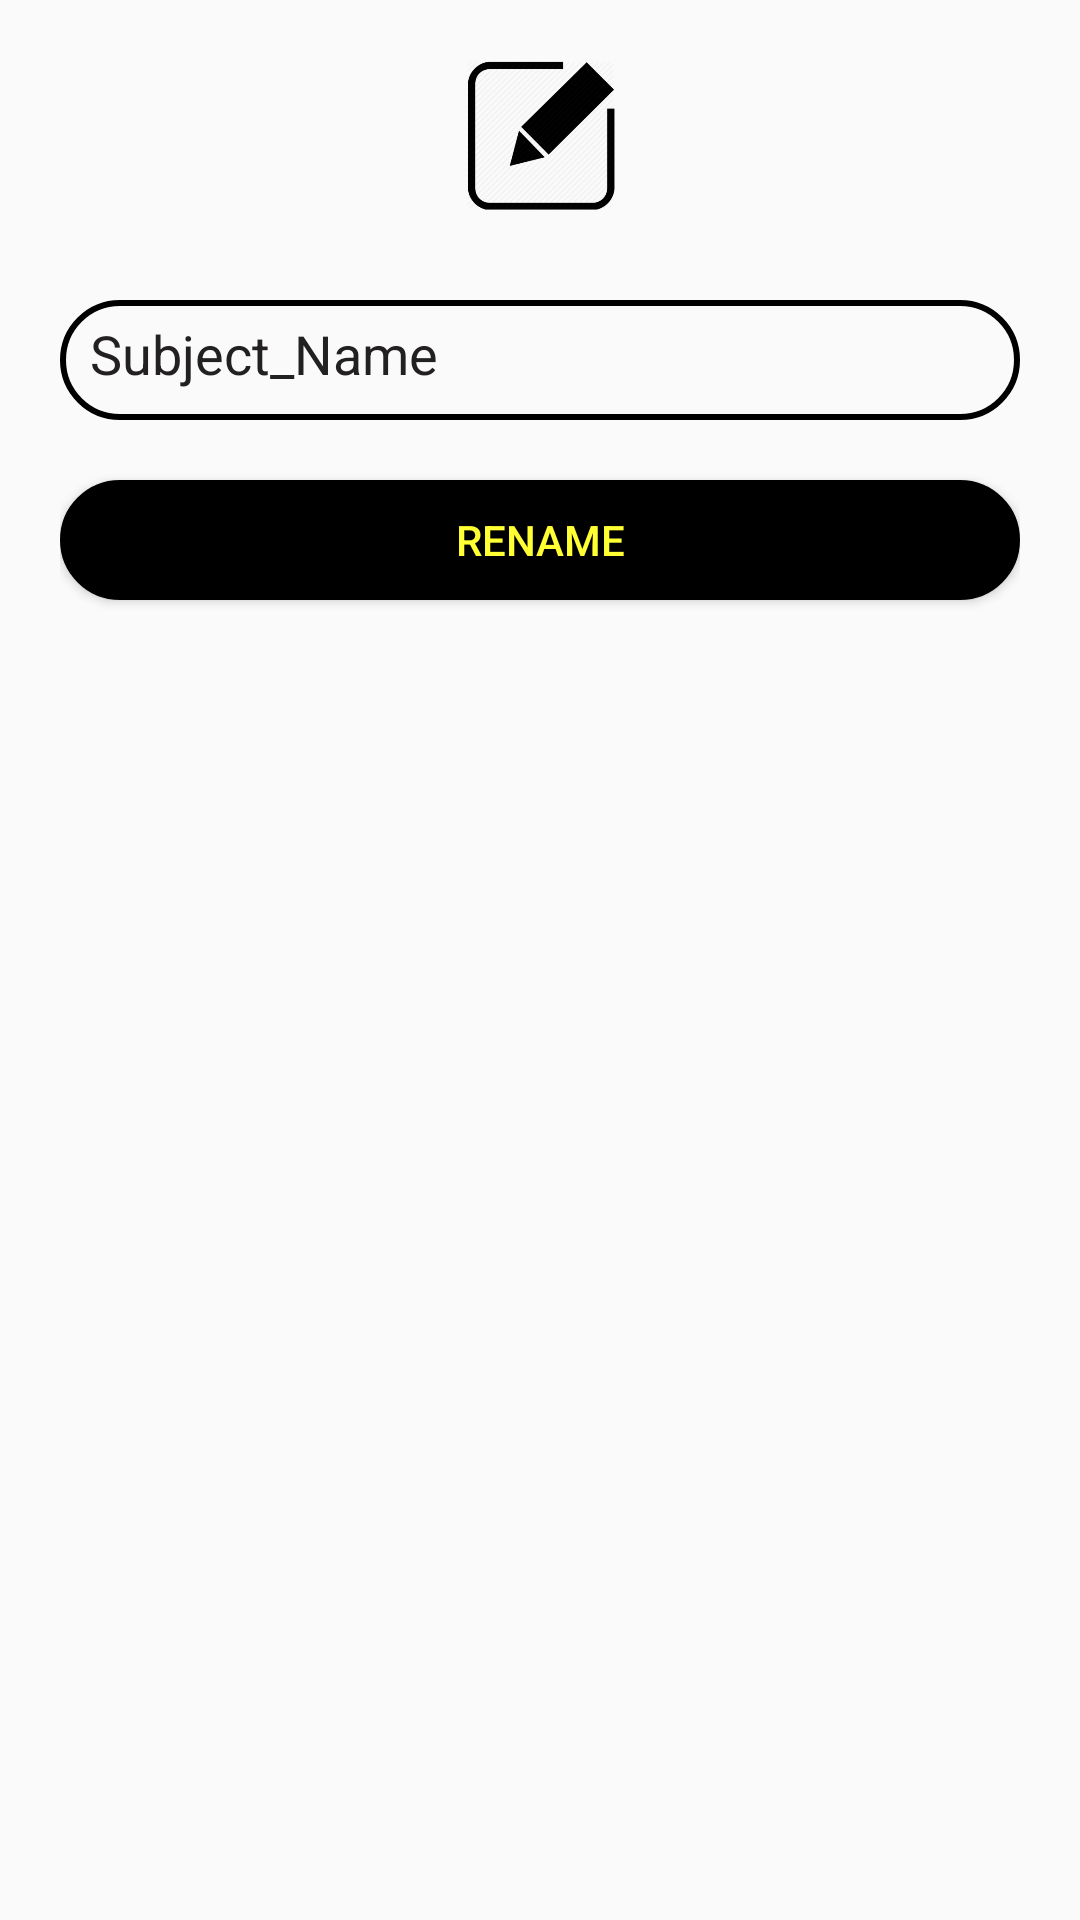

Where to tap for icons on this 1080×1920 app screen, as point (x, y):
rename: point (541, 136)
